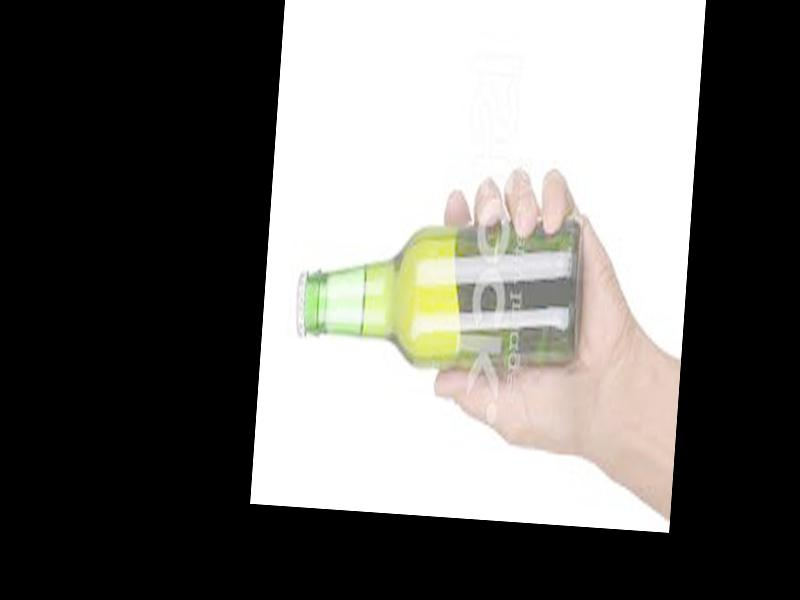Beer: (292, 210, 585, 382)
